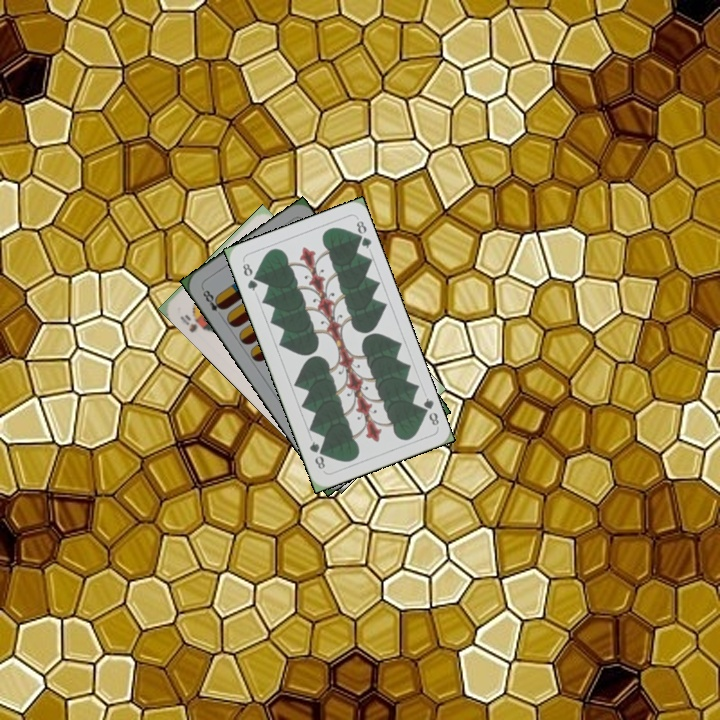E8: (198, 284, 227, 315)
G8: (416, 394, 442, 428), (238, 259, 260, 294)
SO: (176, 310, 200, 335)
